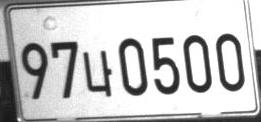0: (215, 32, 245, 92), (182, 34, 212, 93), (117, 38, 148, 95)
5: (151, 37, 180, 94)
7: (50, 41, 78, 98)
9: (20, 42, 48, 99)
나: (82, 50, 111, 97)
